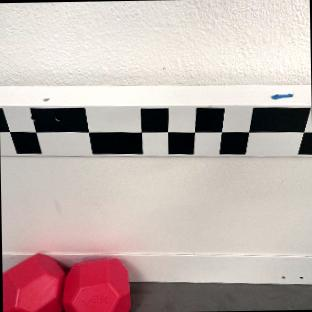V5_RED: (2, 252, 130, 312)
